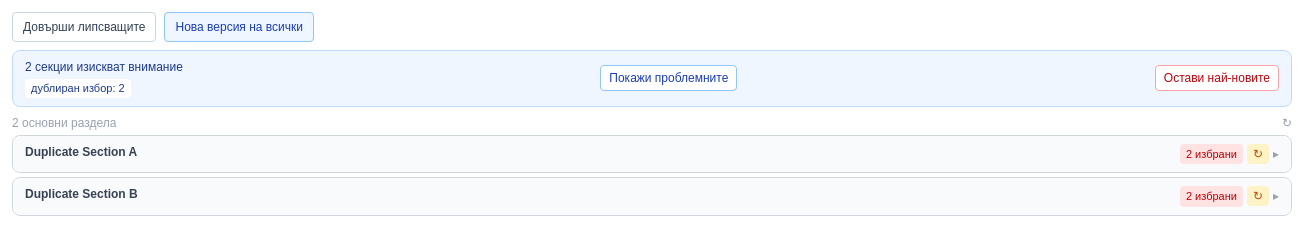
Scenario: GenerationsPanel › resolves duplicate selected generations by keeping the newest selected variants
Expected: the element with test id "generation-attention-summary" shows "дублиран избор: 2", [12, 50, 1292, 107]
Click the button with test id "generation-resolve-duplicates-latest-button". click: x=1217, y=78
box: [1155, 65, 1279, 91]
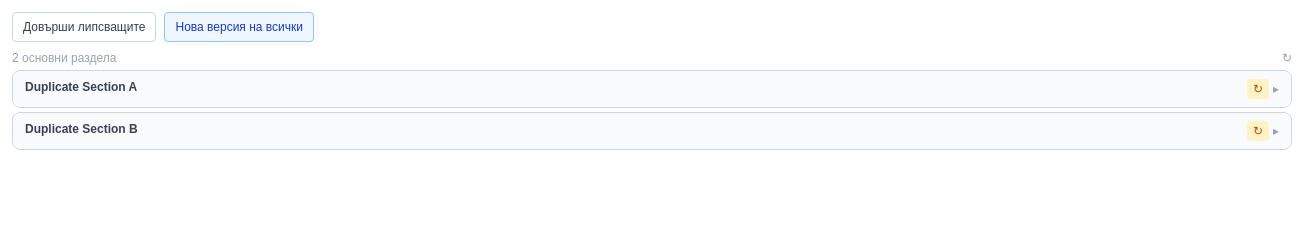
Now the button with test id "generation-resolve-duplicates-latest-button" is gone
